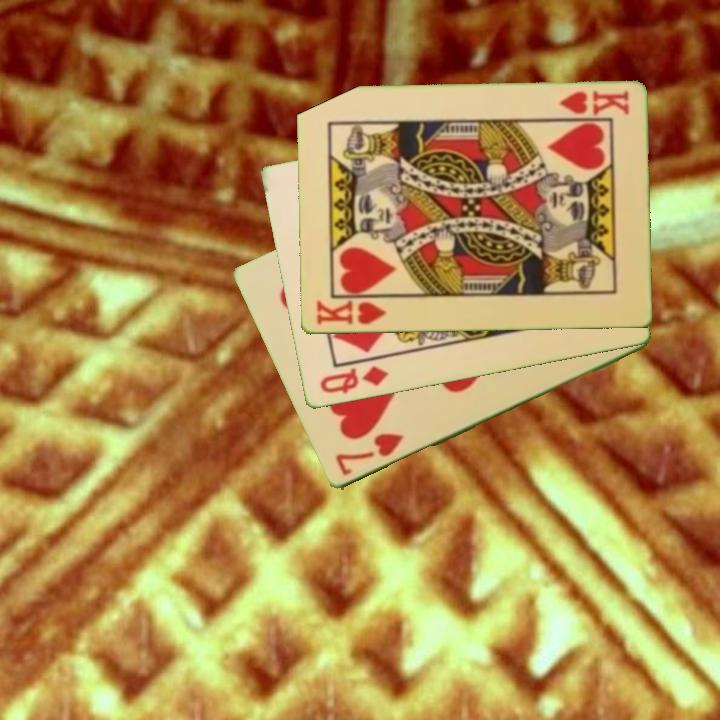7h: (331, 430, 407, 479)
Kh: (313, 294, 394, 328), (556, 87, 632, 119)
Qd: (316, 363, 391, 397)
